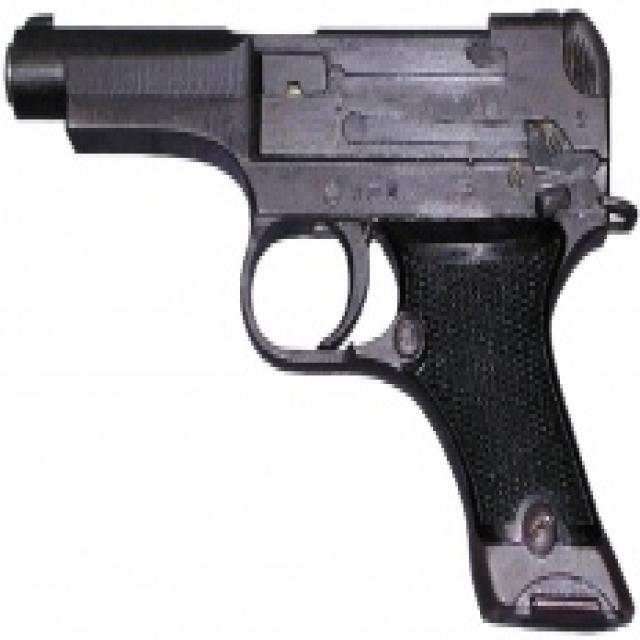pistol: (4, 1, 640, 640)
